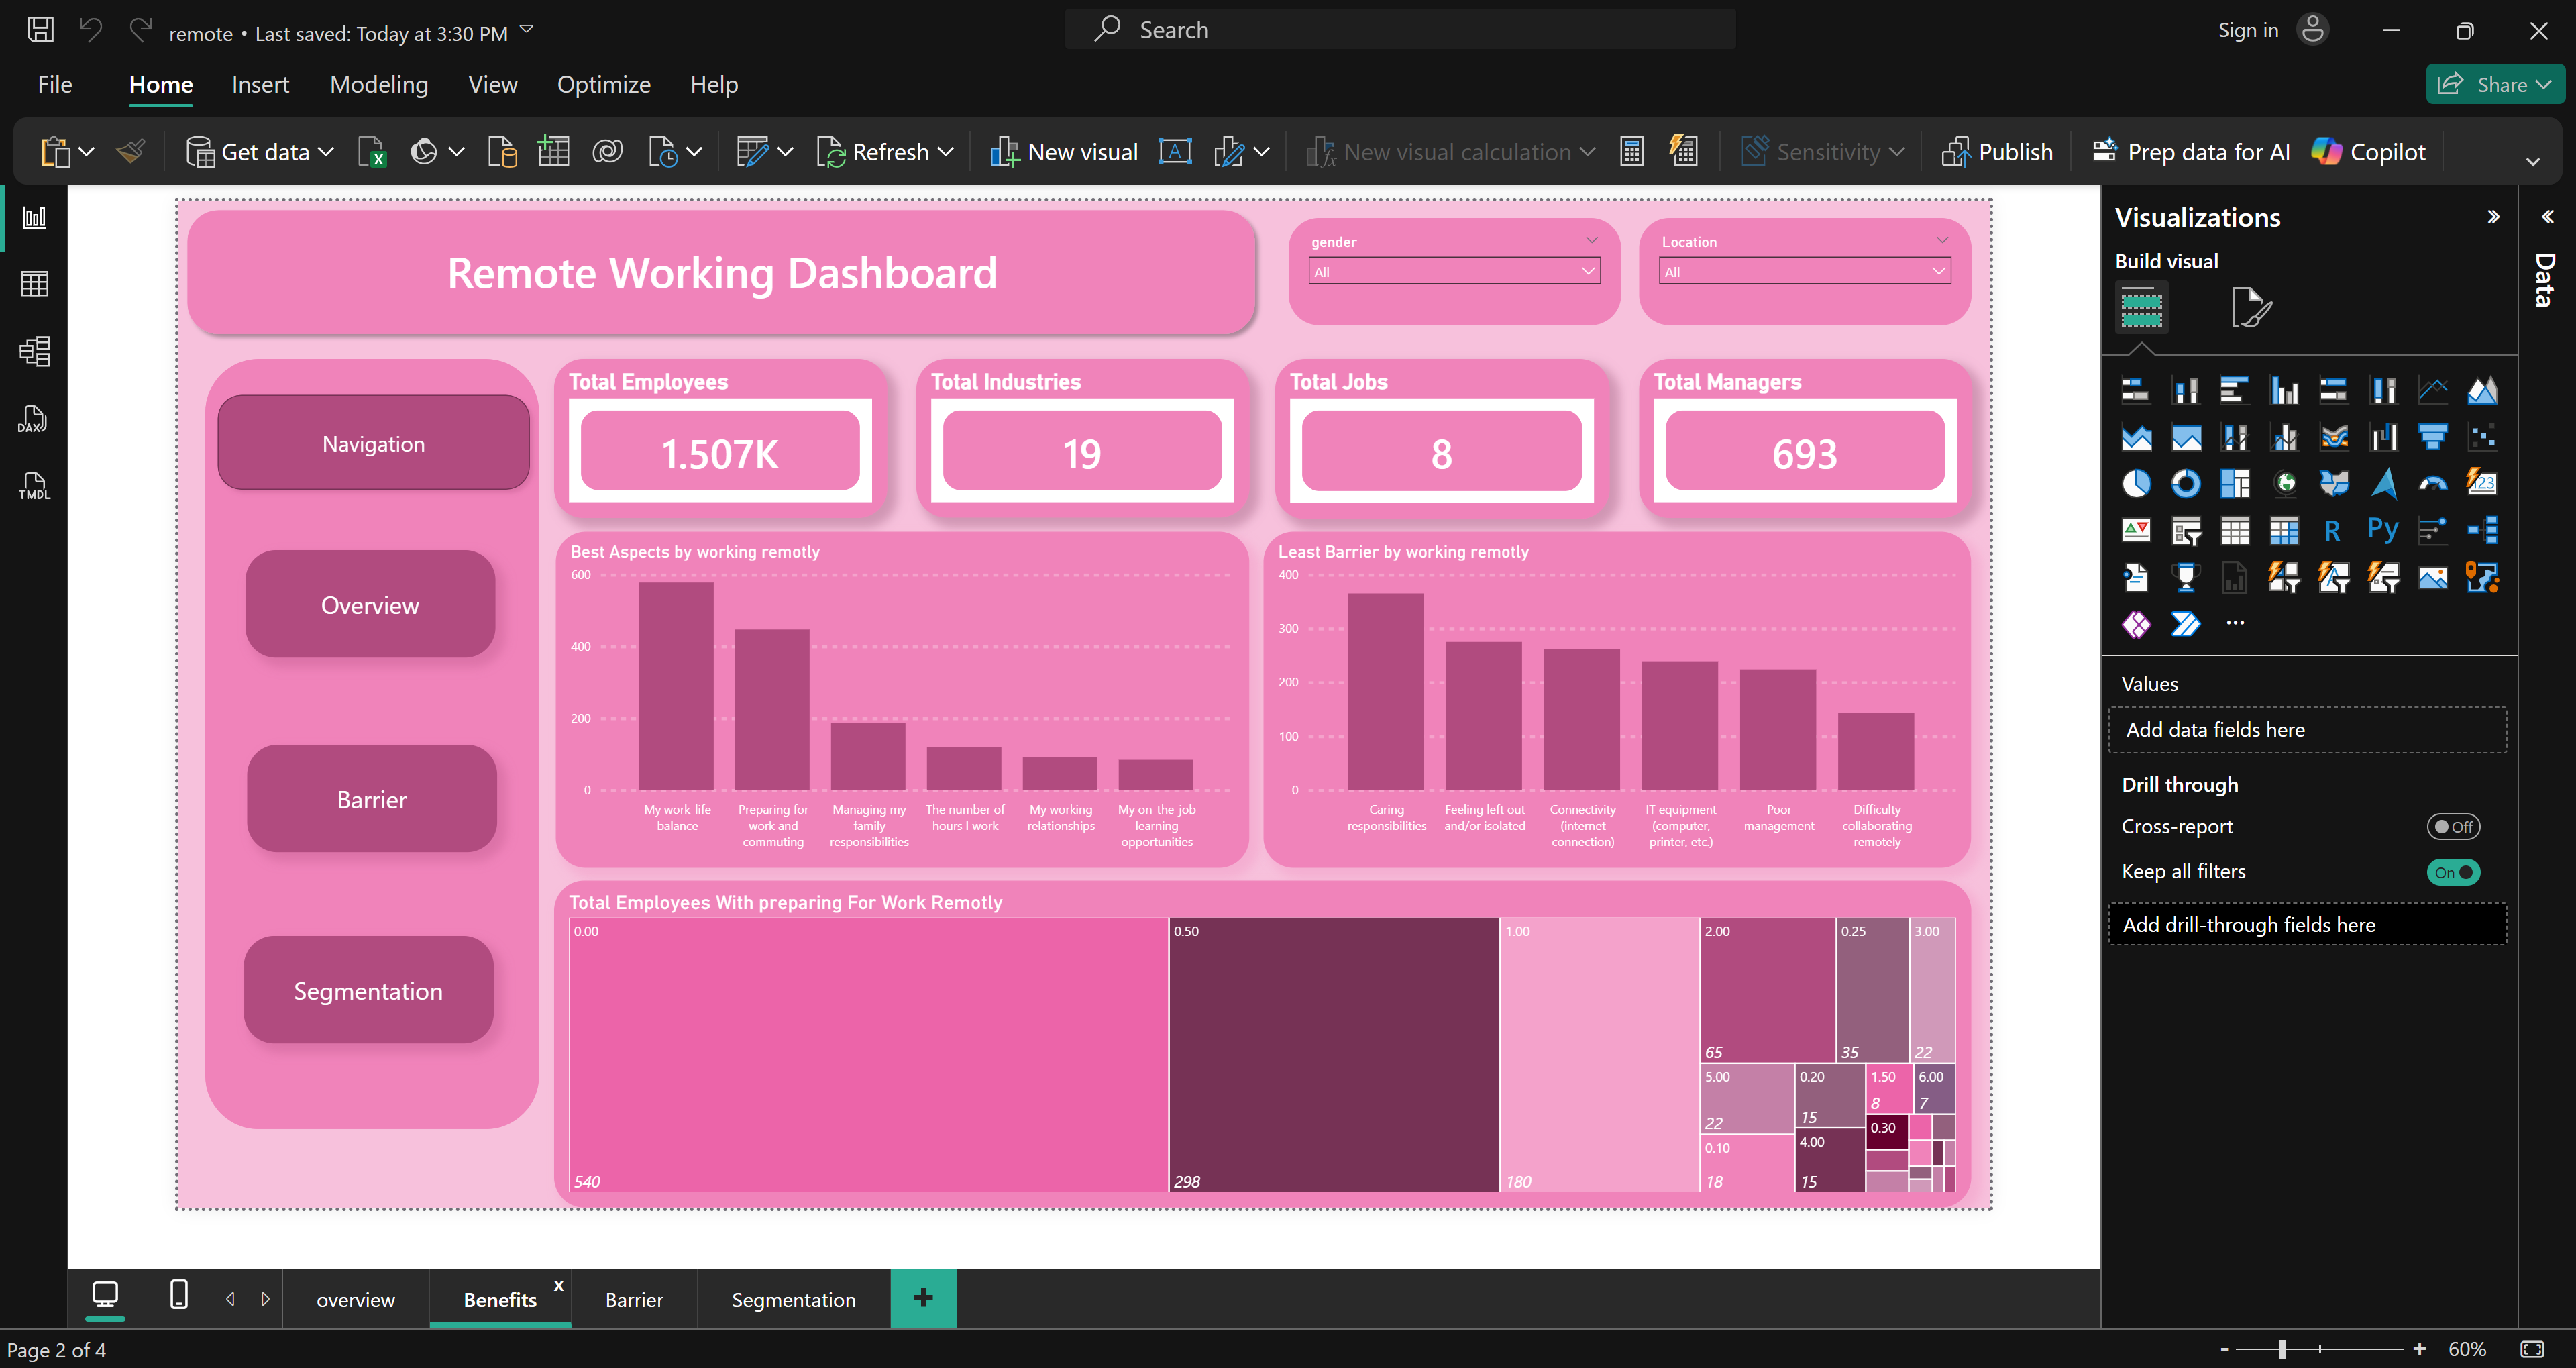

What the dashboard file says about the page in this screenshot:
{"tool":"powerbi","page":{"name":"Benefits","canvas":[1800,1000],"ordinal":1},"visuals":[{"type":"group","id":"g1","title":"Group 1","box":[374.1,156.5,1408.9,159.7],"z":0},{"type":"cardVisual","title":"Total Industries","fields":{"Data":["Count(remote_working_2020.Which of the following best describes your industry?)"]},"box":[733.4,156.5,331.1,157.7],"z":0,"group":"g1"},{"type":"shape","box":[0,0,1078.6,140.9],"z":1000},{"type":"cardVisual","title":"Total Employees","fields":{"Data":["CountNonNull(remote_working_2020.Response ID)"]},"box":[374.1,156.5,331.1,158.1],"z":1000,"group":"g1"},{"type":"textbox","box":[64.2,34.4,951.8,72],"z":2000},{"type":"cardVisual","title":"Total Managers","fields":{"Data":["RemoteWorking.Managers Total"]},"box":[1451.9,156.5,331.1,158.1],"z":2000,"group":"g1"},{"type":"slicer","fields":{"Values":["RemoteWorking.What is your gender?"]},"box":[1103.6,17.2,330.3,106.5],"z":3000},{"type":"cardVisual","title":"Total Jobs","fields":{"Data":["Count(remote_working_2020.Which of the following best describes your current occupation?)"]},"box":[1091.5,156.7,332.6,159],"z":3000,"group":"g1"},{"type":"slicer","fields":{"Values":["RemoteWorking.Metro / Regional"]},"box":[1451.2,17.2,330.3,106.5],"z":4000},{"type":"shape","box":[25.9,157.2,331.7,765.4],"z":5000},{"type":"shape","box":[29.4,183.1,328.3,112.3],"z":6000},{"type":"clusteredColumnChart","title":"Best Aspects by working remotly","fields":{"Category":["RemoteWorking.Compare remote working to working at your employer’s workplace. Select the best aspect of remote working f"],"Y":["CountNonNull(RemoteWorking.Compare remote working to working at your employer’s workplace. Select the best aspect of rem"]},"box":[374.7,328.5,689,333.9],"z":7000},{"type":"clusteredColumnChart","title":"Least Barrier by working remotly","fields":{"Category":["RemoteWorking.From the following, please select the least significant barrier to doing your work remotely - Connectivity"],"Y":["CountNonNull(RemoteWorking.From the following, please select the least significant barrier to doing your work remotely -"]},"box":[1077.9,328.5,703.2,333.9],"z":8000},{"type":"treemap","title":"Total Employees With preparing For Work Remotly","fields":{"Values":["CountNonNull(RemoteWorking.Response ID)"],"Group":["RemoteWorking.On a day when you do remote work, how many hours would you spend doing the following activities? - Prepari"]},"box":[372.9,674.8,1408.3,325],"z":9000},{"type":"actionButton","box":[66.7,346.7,248.3,106.7],"z":10000},{"type":"actionButton","box":[68.3,540,248.3,106.7],"z":11000},{"type":"actionButton","box":[65,730,248.3,106.7],"z":12000}]}

Visuals, with their boxes on the page's 1800x1000 design canvas (x1, y1, x2, y2). These are canvas units, not pixel positions in the 2576x1368 screenshot, which may show the page scaled, cropped or inside an application window:
"Group 1" group: box(374, 156, 1783, 316)
"Total Industries" cardVisual: box(733, 156, 1064, 314)
shape: box(0, 0, 1079, 141)
"Total Employees" cardVisual: box(374, 156, 705, 315)
textbox: box(64, 34, 1016, 106)
"Total Managers" cardVisual: box(1452, 156, 1783, 315)
slicer - RemoteWorking.What is your gender?: box(1104, 17, 1434, 124)
"Total Jobs" cardVisual: box(1092, 157, 1424, 316)
slicer - RemoteWorking.Metro / Regional: box(1451, 17, 1782, 124)
shape: box(26, 157, 358, 923)
shape: box(29, 183, 358, 295)
"Best Aspects by working remotly" clusteredColumnChart: box(375, 328, 1064, 662)
"Least Barrier by working remotly" clusteredColumnChart: box(1078, 328, 1781, 662)
"Total Employees With preparing For Work Remotly" treemap: box(373, 675, 1781, 1000)
actionButton: box(67, 347, 315, 453)
actionButton: box(68, 540, 317, 647)
actionButton: box(65, 730, 313, 837)
